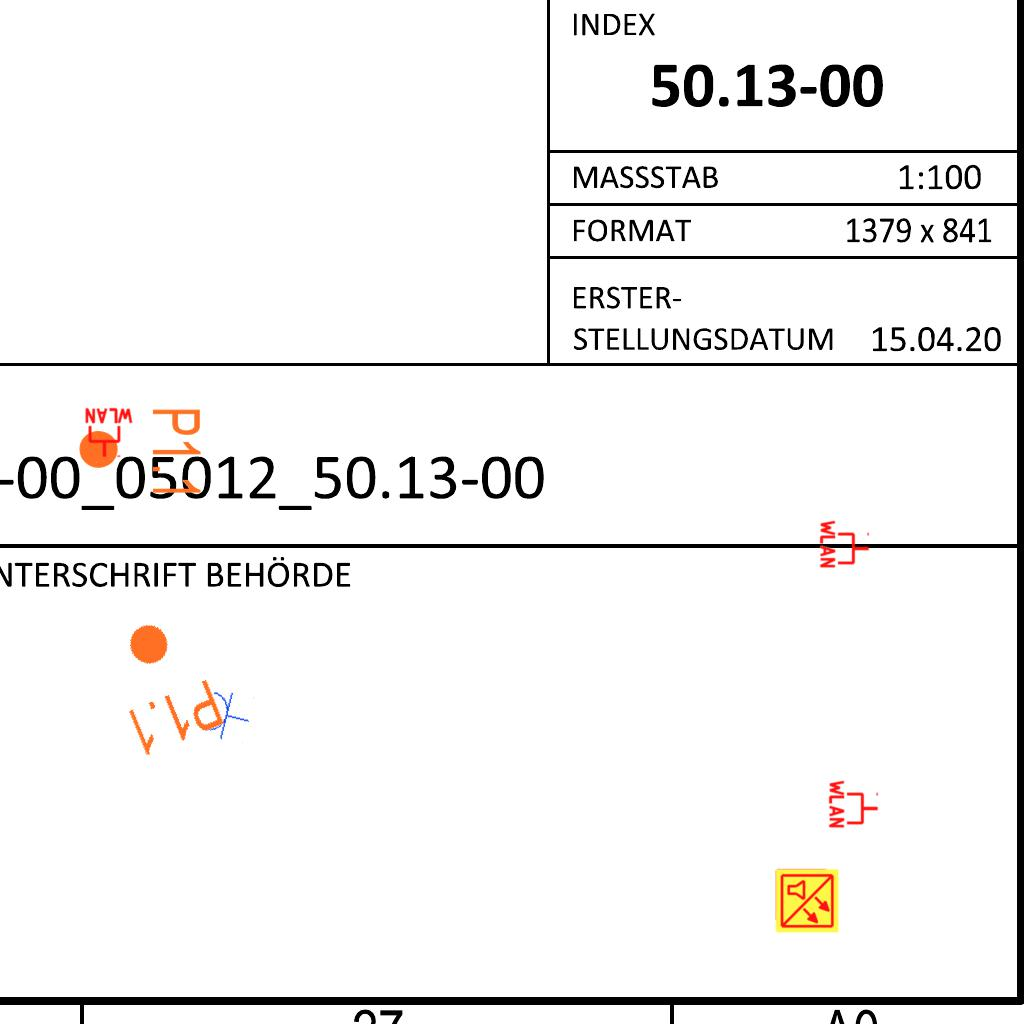Downlight_LED_Einbauleuchten_Flur: (94, 607, 229, 761), (76, 406, 204, 499)
OKW_Multisensormelder_(Kombination_optischer_Rauch-Kahlenmonoxid_Waerme-Melder): (774, 868, 840, 934)
Schukosteckdose_einfach: (201, 686, 255, 745)
WLAN: (819, 518, 871, 570), (828, 778, 880, 830), (83, 407, 135, 459)
